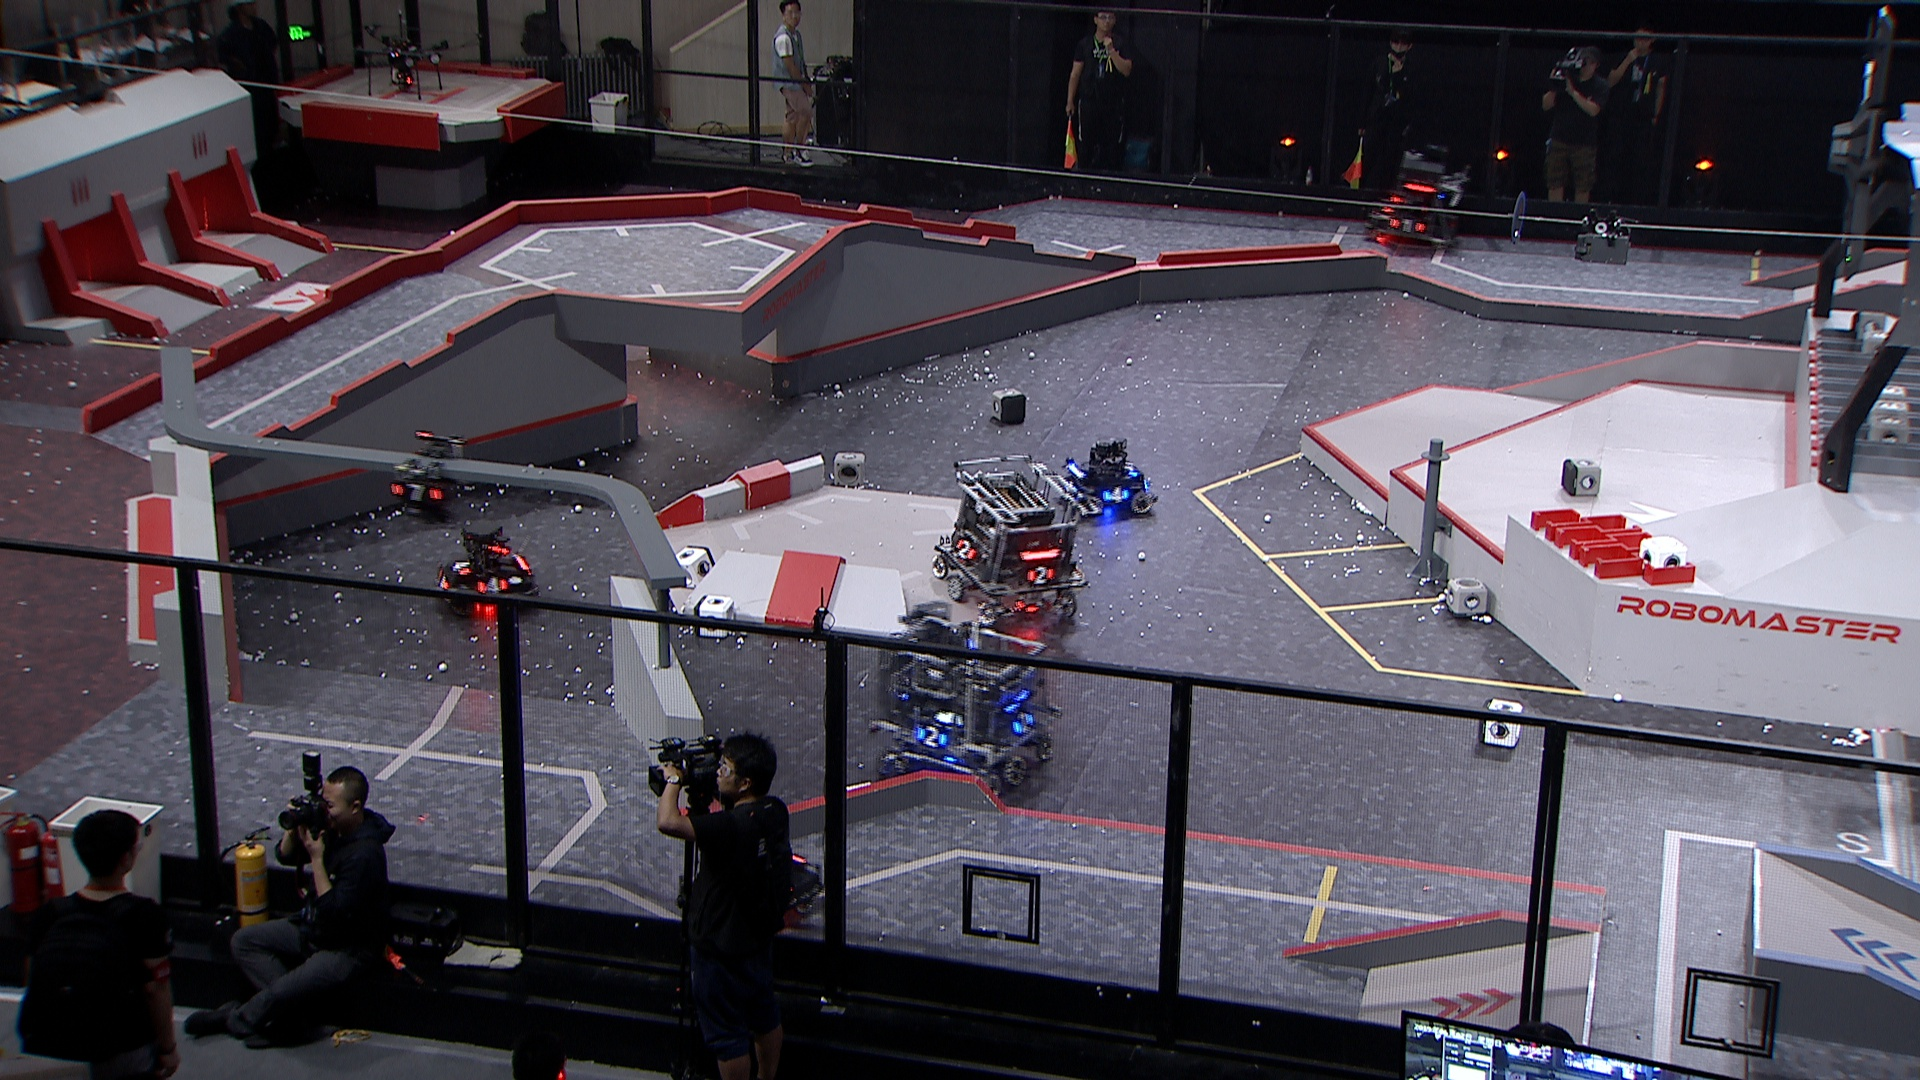armor: (386, 480, 443, 501), (915, 723, 948, 750), (475, 574, 509, 597), (1386, 216, 1427, 235), (1010, 711, 1038, 737), (1026, 564, 1055, 585), (1100, 485, 1130, 505), (955, 535, 977, 560), (451, 555, 472, 576), (436, 566, 452, 591), (1121, 460, 1138, 480)
car: (869, 611, 1067, 796), (930, 454, 1091, 626), (429, 516, 543, 618), (1371, 148, 1466, 251), (1059, 440, 1158, 522)
watcher: (386, 431, 471, 524)
